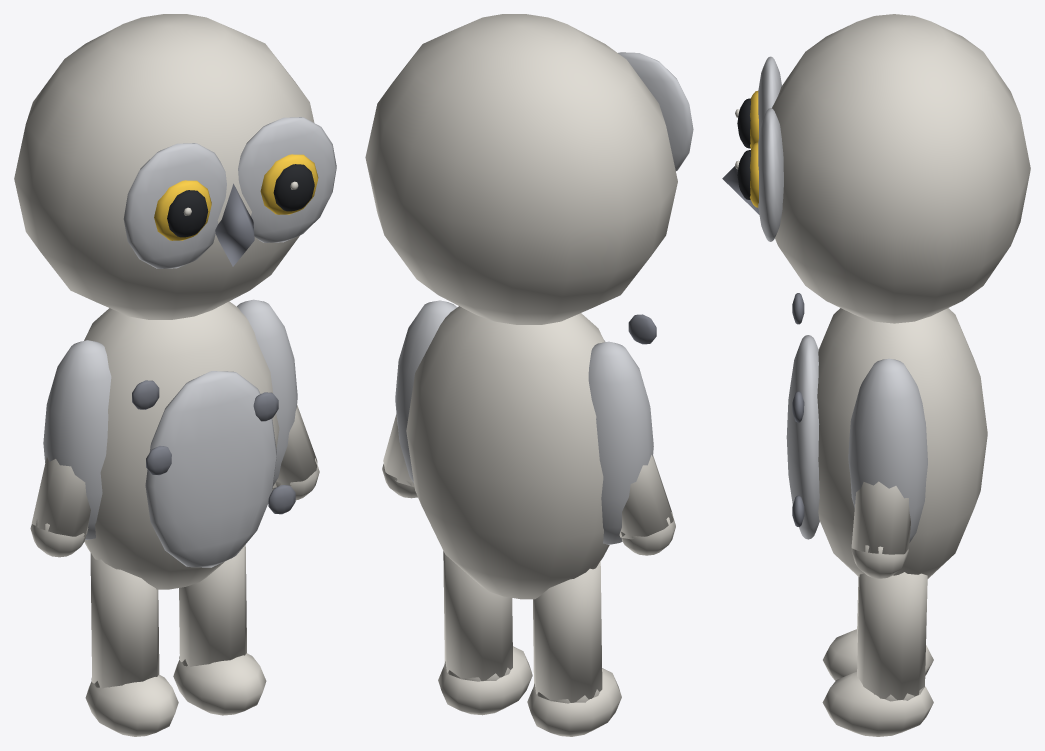
Rendered from snowy-owl.glb.
3 renders of one model, left to right at view 1: azimuth 30°, elevation 25°; view 2: azimuth 150°, elevation 25°; view 3: azimuth 270°, elevation 25°, orthographic. The views are drawn at different scales.
Visible parts, largest first — view 1: Asset.snowy-owl; view 2: Asset.snowy-owl; view 3: Asset.snowy-owl.
Part boxes in pixels (box(x1,y1,x2,y2)): Asset.snowy-owl: box(14, 14, 336, 736); Asset.snowy-owl: box(365, 14, 693, 736); Asset.snowy-owl: box(722, 14, 1030, 736).
Size of the model in its own units: 1.8 by 4.19 by 1.72.
